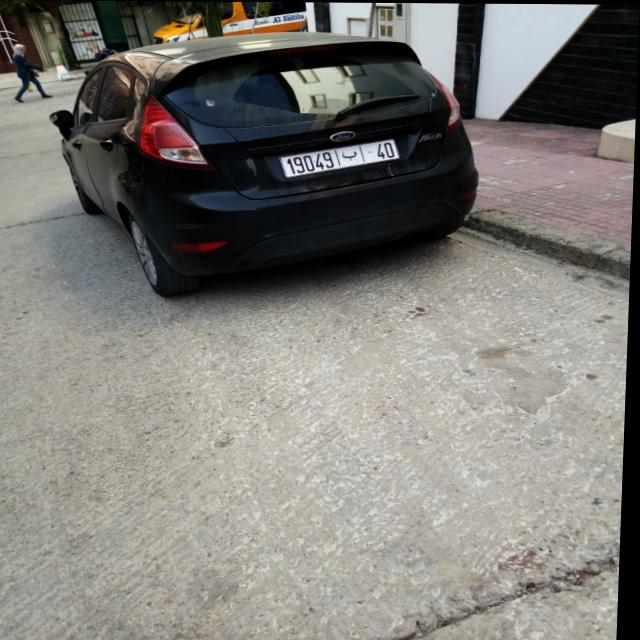License-Plate: (280, 139, 401, 177)
